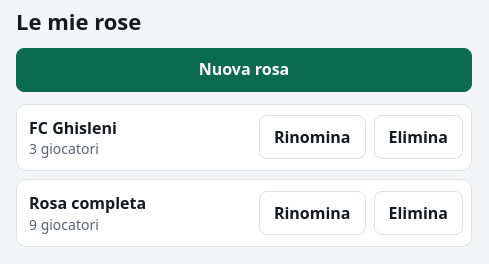
Test: Elimina asks inside the page before deleting
Step 1. Click the 1st button "Elimina" → {"x": 418, "y": 138}, box [374, 116, 463, 160]
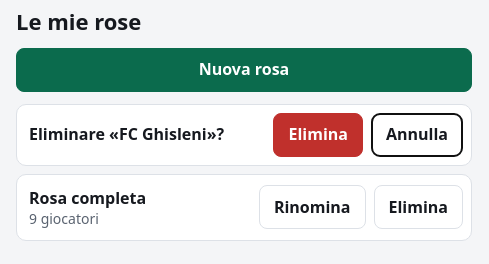
Check: the text "Eliminare «FC Ghisleni»?" is shown, box [29, 123, 224, 145]
Step 2. Click the button "Annulla" → {"x": 417, "y": 134}, box [371, 112, 463, 156]
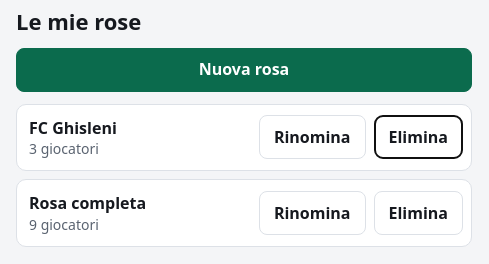
Check: the text "FC Ghisleni" is shown, box [29, 116, 117, 139]
Step 3. Click the 1st button "Elimina" → {"x": 418, "y": 138}, box [374, 116, 463, 160]
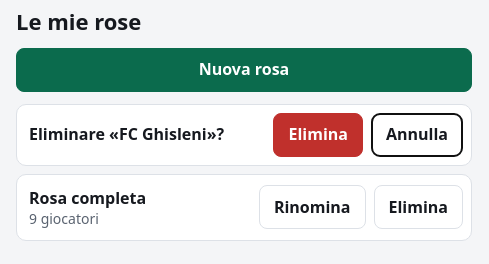
Step 4. Click the button "Elimina" next to "Eliminare «FC Ghisleni»?" → {"x": 318, "y": 134}, box [274, 112, 363, 156]
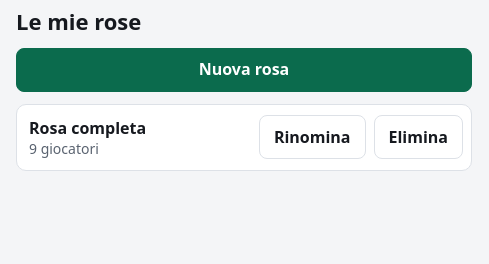
Check: the text "FC Ghisleni" is gone
